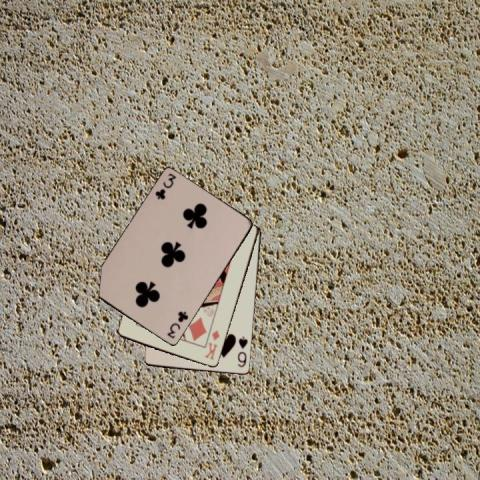3c: (164, 309, 190, 340), (152, 171, 177, 201)
6s: (235, 333, 249, 369)
Kd: (202, 328, 222, 361)
